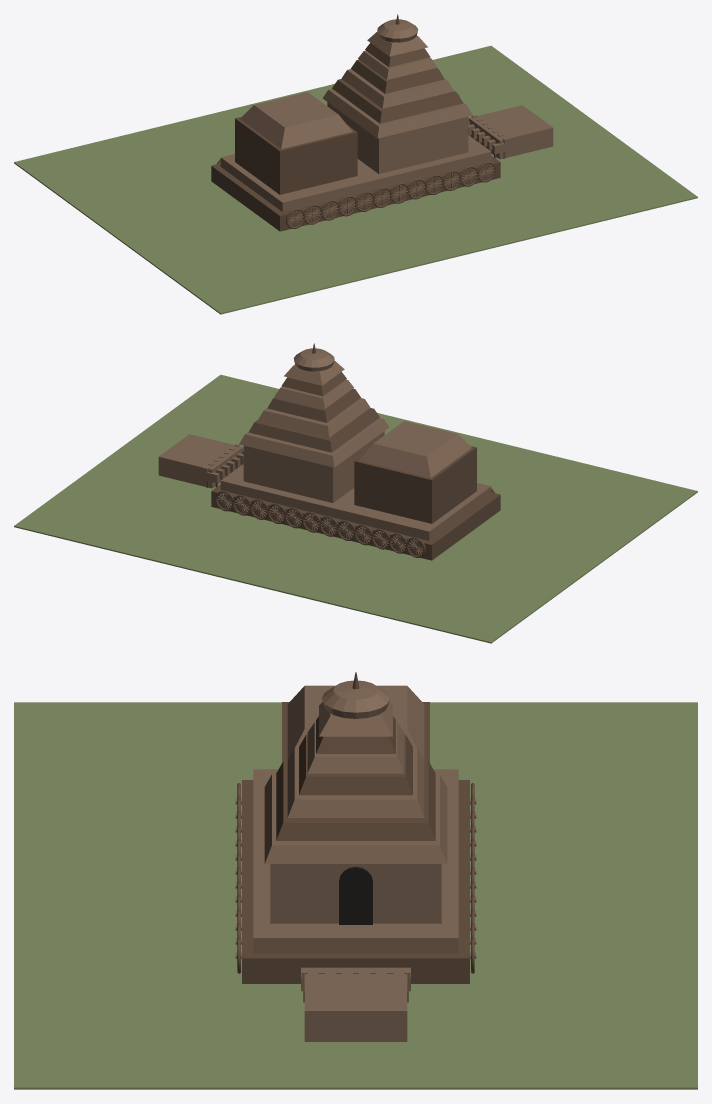
Rendered from konark-sun-temple.glb.
3 renders of one model, top to bottom at view 1: azimuth 30°, elevation 25°; view 2: azimuth 150°, elevation 25°; view 3: azimuth 270°, elevation 25°, orthographic. The views are drawn at different scales.
Parts seen in each view (by area): view 1: grass, khondalite, khondalite_d; view 2: grass, khondalite, khondalite_d; view 3: grass, khondalite, khondalite_d, void.
Boxes of the visible parts, left/top/right/bottom form: grass: left=14, top=45, right=697, bottom=314; khondalite: left=220, top=19, right=553, bottom=226; khondalite_d: left=211, top=14, right=505, bottom=231; grass: left=14, top=374, right=697, bottom=643; khondalite: left=158, top=348, right=491, bottom=555; khondalite_d: left=206, top=343, right=500, bottom=560; grass: left=14, top=702, right=697, bottom=1089; khondalite: left=235, top=680, right=476, bottom=1041; khondalite_d: left=237, top=672, right=474, bottom=1002; void: left=339, top=866, right=372, bottom=924.
Bounding box in the file's own units: 160 × 50 × 120.
